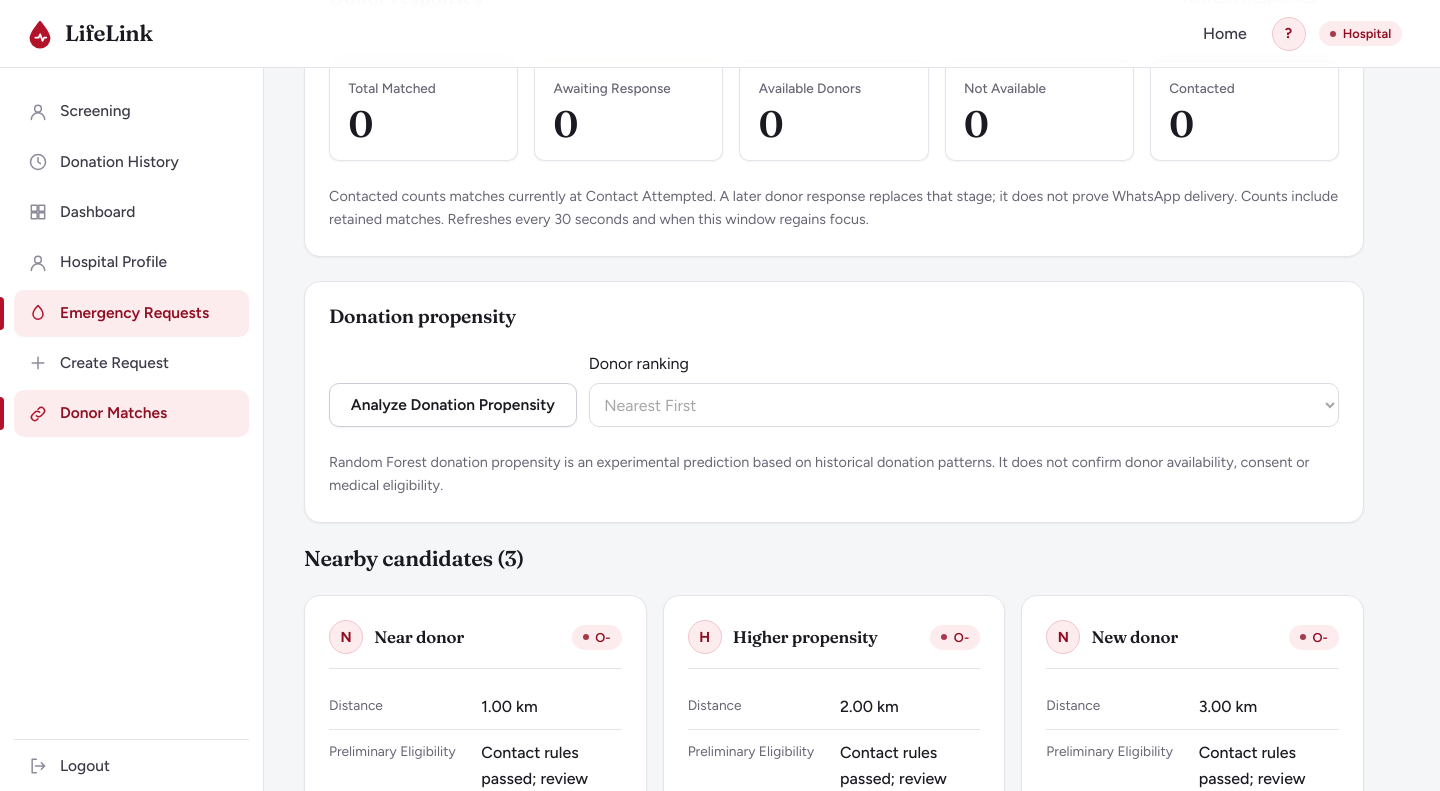
combined respects backend eligibility and does not promote restricted records
(page scrolled)
Click the button "Analyze Donation Propensity" at (453, 405), box [329,383,577,427]
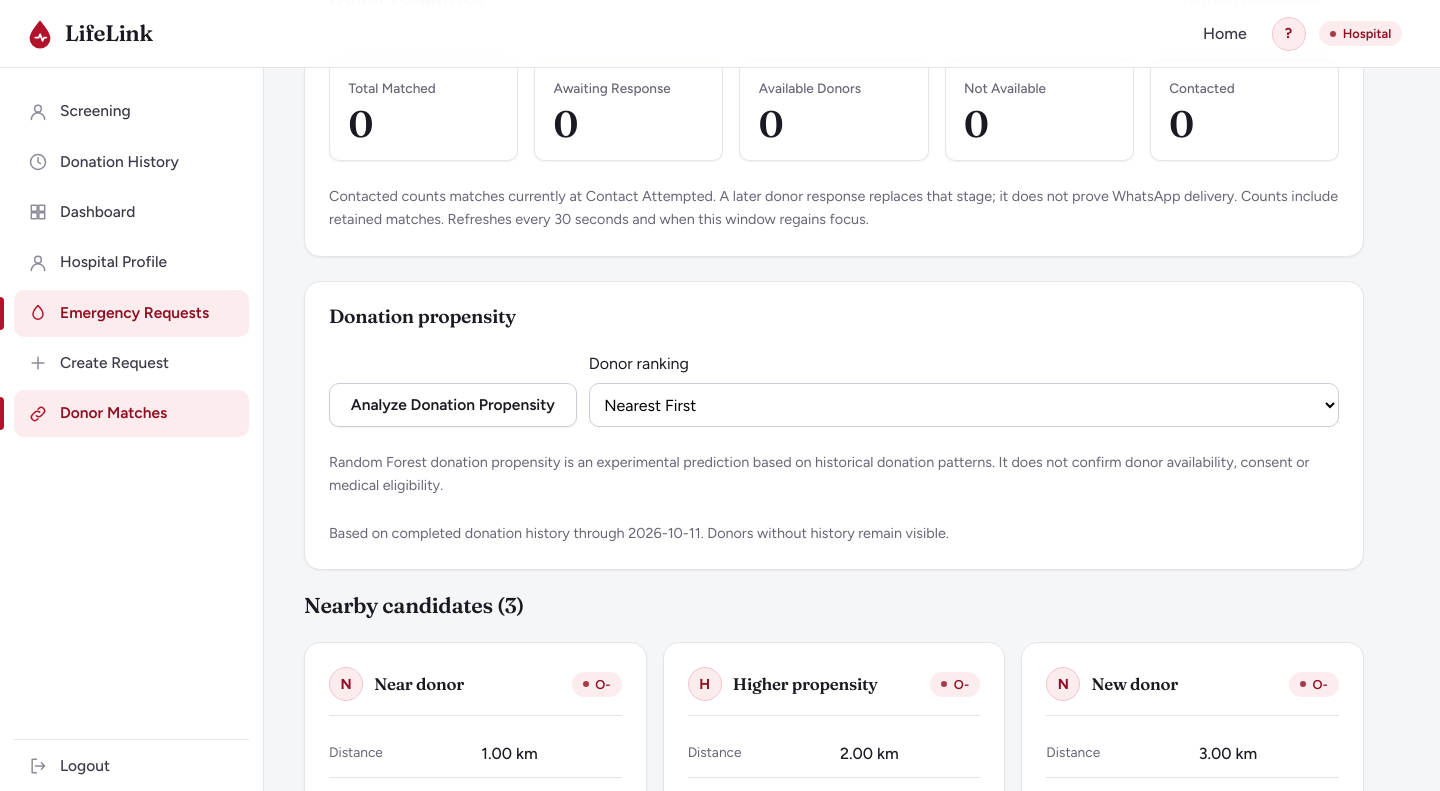
Select "Combined Priority" in the dropdown labelled "Donor ranking" at (964, 405), box [589,383,1339,427]
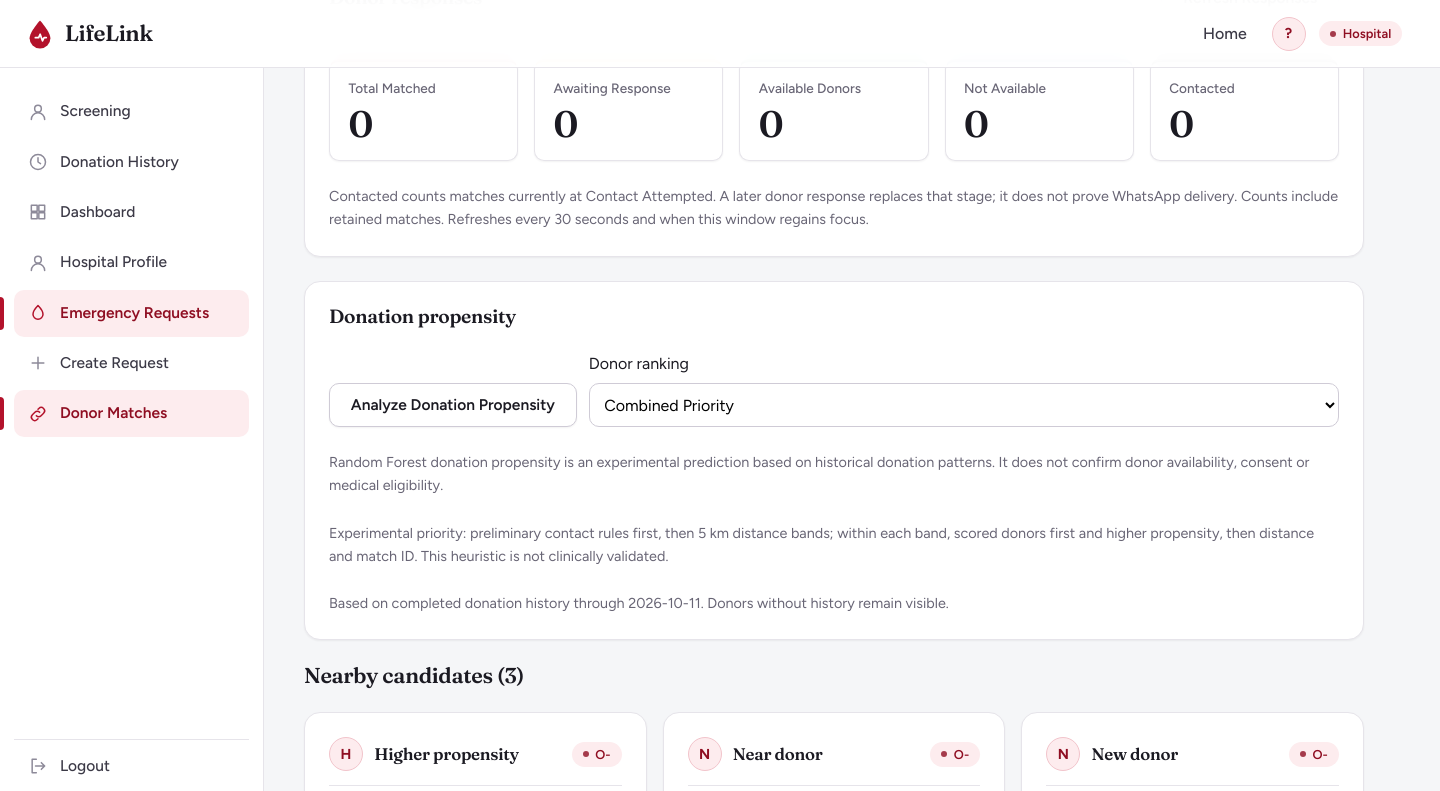
Expected: the heading "Higher propensity" is shown, [374,745,519,764]
Now the text "This heuristic is not clinically validated" is shown, box [329,524,1314,564]
